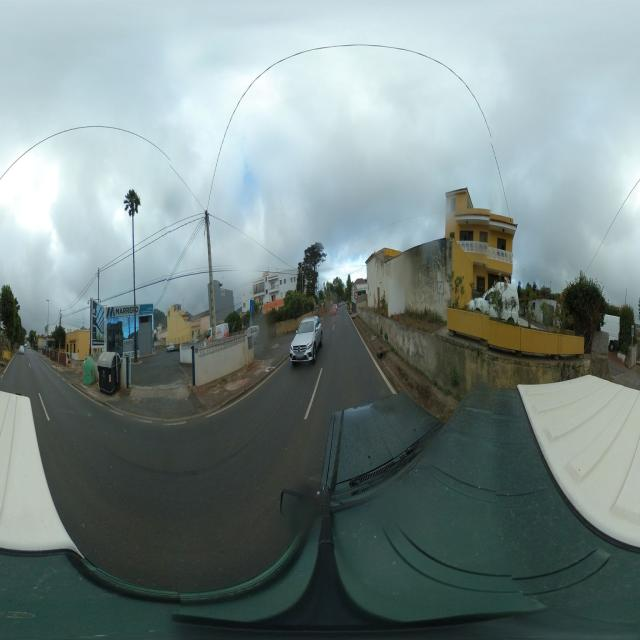car: (290, 326, 318, 367), (300, 316, 324, 350), (329, 302, 338, 315)
